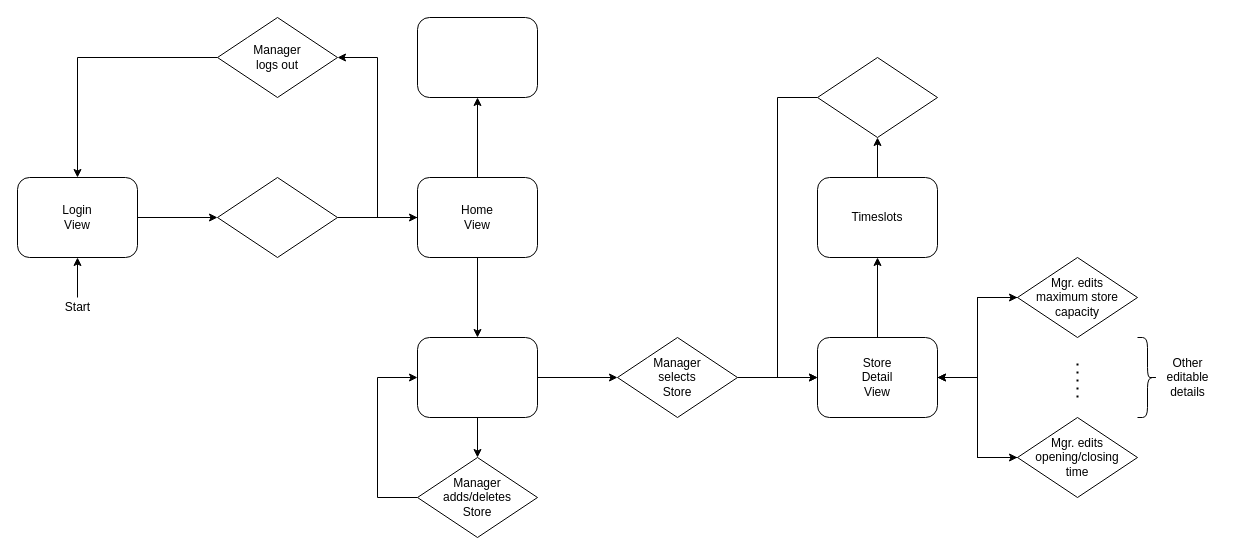
Some shapes in this 1235 by 555 pixel diagram are drawn without their labels. The centre of each missing label's shape, as x and y in pixels:
"Manager edits timeslots" goes at point 877,97.
"Manager logs in with credentials" goes at point 277,217.
"Statistics" goes at point 477,57.
"Store List View" goes at point 477,377.
